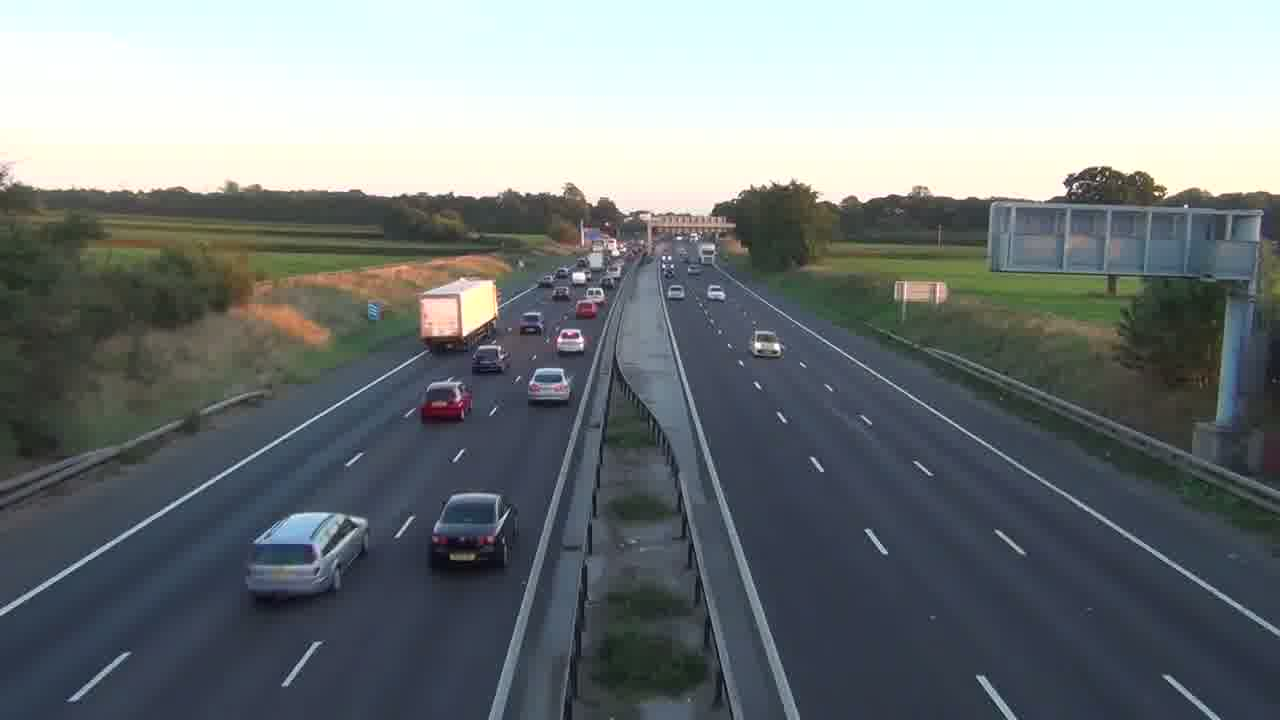car: (243, 511, 370, 602), (429, 491, 519, 567), (420, 379, 474, 422), (527, 367, 573, 404), (471, 345, 509, 374), (556, 328, 586, 354), (518, 311, 544, 335), (575, 298, 599, 319), (706, 284, 726, 301), (666, 284, 685, 300)
truck: (418, 278, 500, 351)
